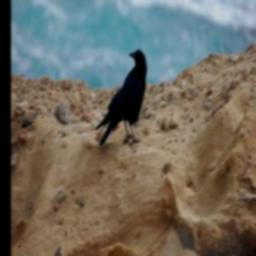Crow: (96, 44, 148, 149)
